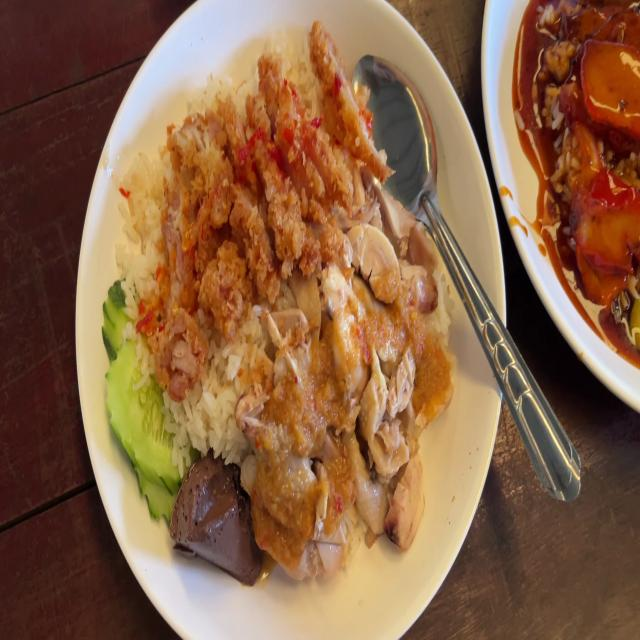01red_pork: (570, 170, 640, 296), (578, 40, 640, 147)
01red_pork_and_crispy_pork: (533, 0, 640, 313)
boiled_chicken: (247, 196, 448, 558)
boiled_chicken_blood_jelly: (173, 452, 264, 584)
chicken_rice: (104, 17, 447, 564)
cucumber: (97, 279, 187, 524)
fried_chicken: (147, 18, 391, 385)
